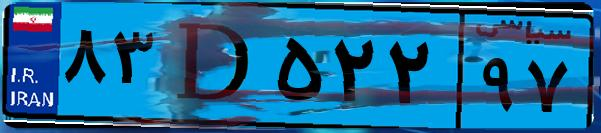2: (385, 28, 445, 110), (330, 28, 385, 110)
3: (110, 28, 158, 98)
5: (270, 28, 330, 110)
7: (525, 38, 570, 115)
8: (57, 26, 110, 100)
9: (475, 38, 525, 113)
D: (158, 12, 270, 120)
